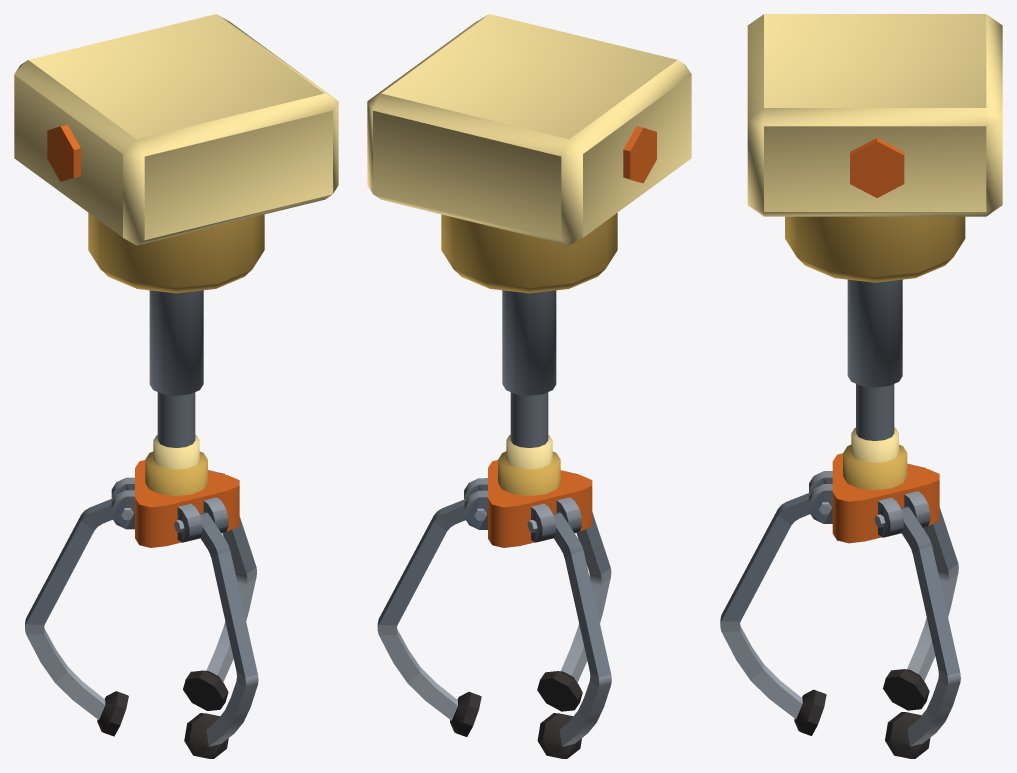
File: maquina_pelucia_garra_pacote.glb
3 views of the same model, side by side, from view 1: azimuth 30°, elevation 25°; view 2: azimuth 150°, elevation 25°; view 3: azimuth 270°, elevation 25° (orthographic). The views are drawn at different scales.
Visible parts, largest first — view 1: maquina_pelucia_garra_pacote; view 2: maquina_pelucia_garra_pacote; view 3: maquina_pelucia_garra_pacote.
Boxes of the visible parts, <box> form: maquina_pelucia_garra_pacote: <box>14,14,338,758</box>; maquina_pelucia_garra_pacote: <box>367,14,691,758</box>; maquina_pelucia_garra_pacote: <box>720,14,1002,758</box>.
Size of the model in its own units: 0.2002 by 0.5401 by 0.2052.
1 material, 1 textured.
